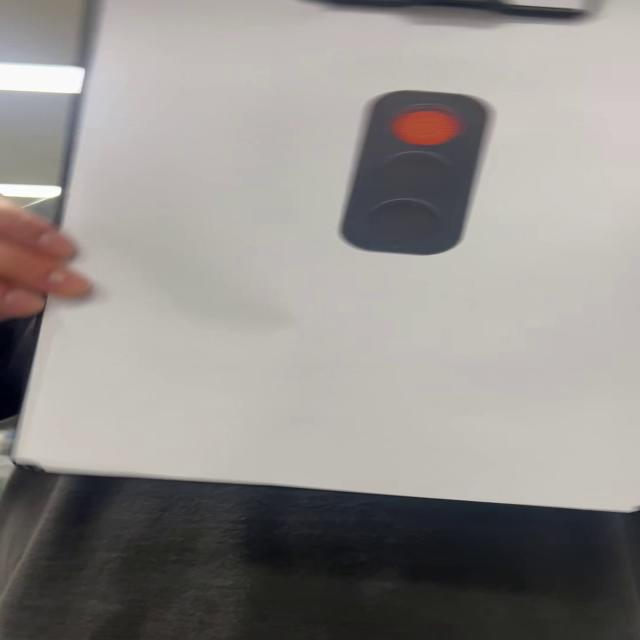red: (337, 90, 496, 258)
